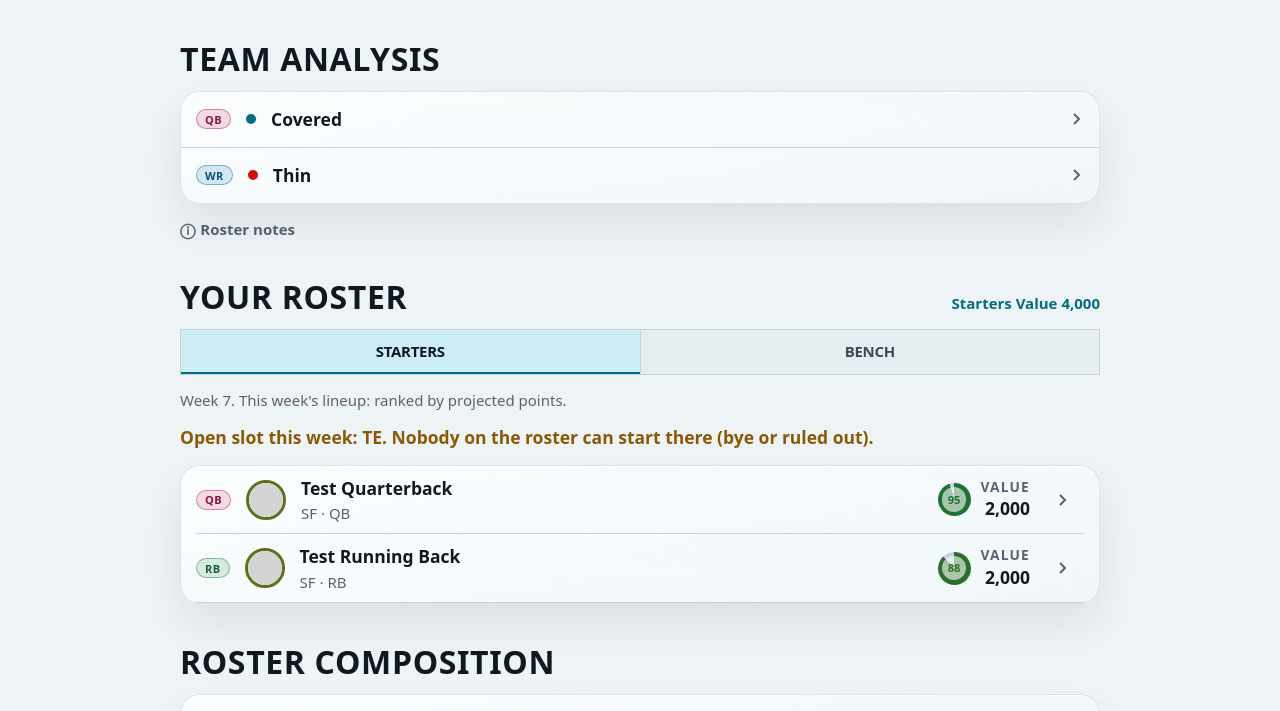
Test: MyTeamContent › tags a bye-week bench player and names open lineup slots
(page scrolled)
Click the tab "Bench" at (869, 352), box top-left (640, 330), bottom-right (1099, 374)
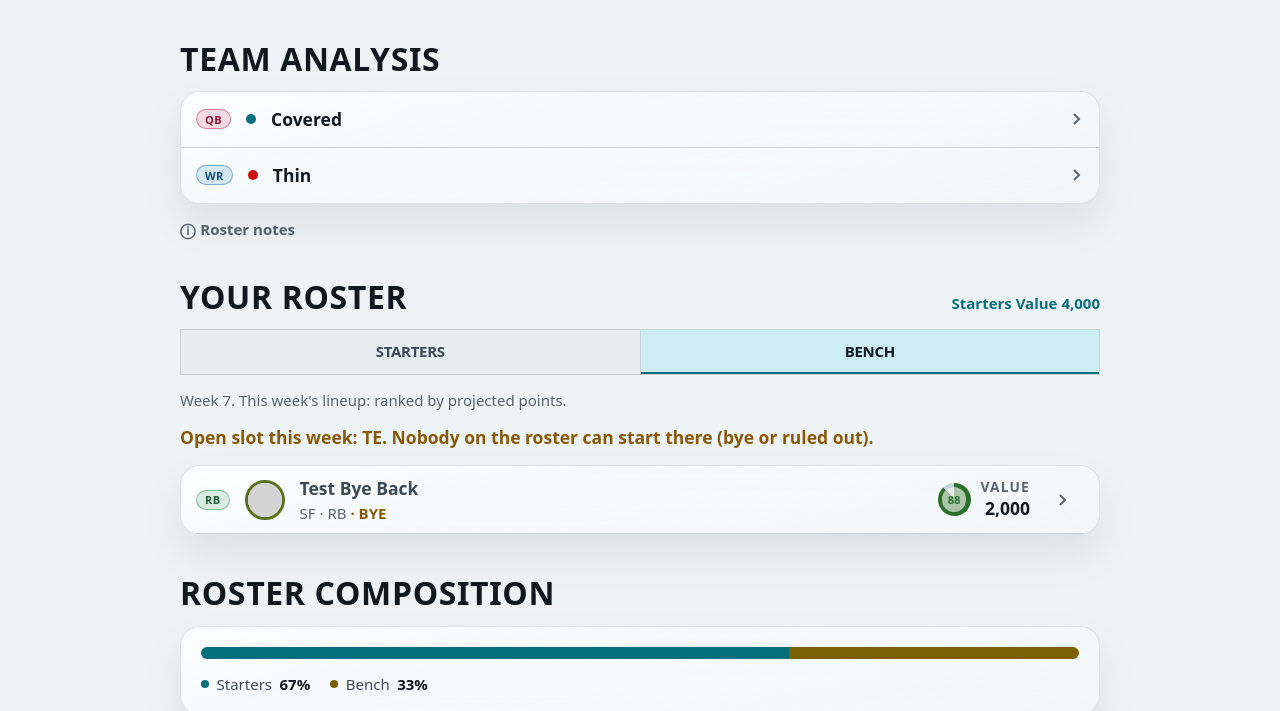
Expected: the message shows "Open slot this week: TE", top-left (180, 425), bottom-right (874, 449)
Now the text "· BYE" is shown, box top-left (346, 503), bottom-right (386, 523)
